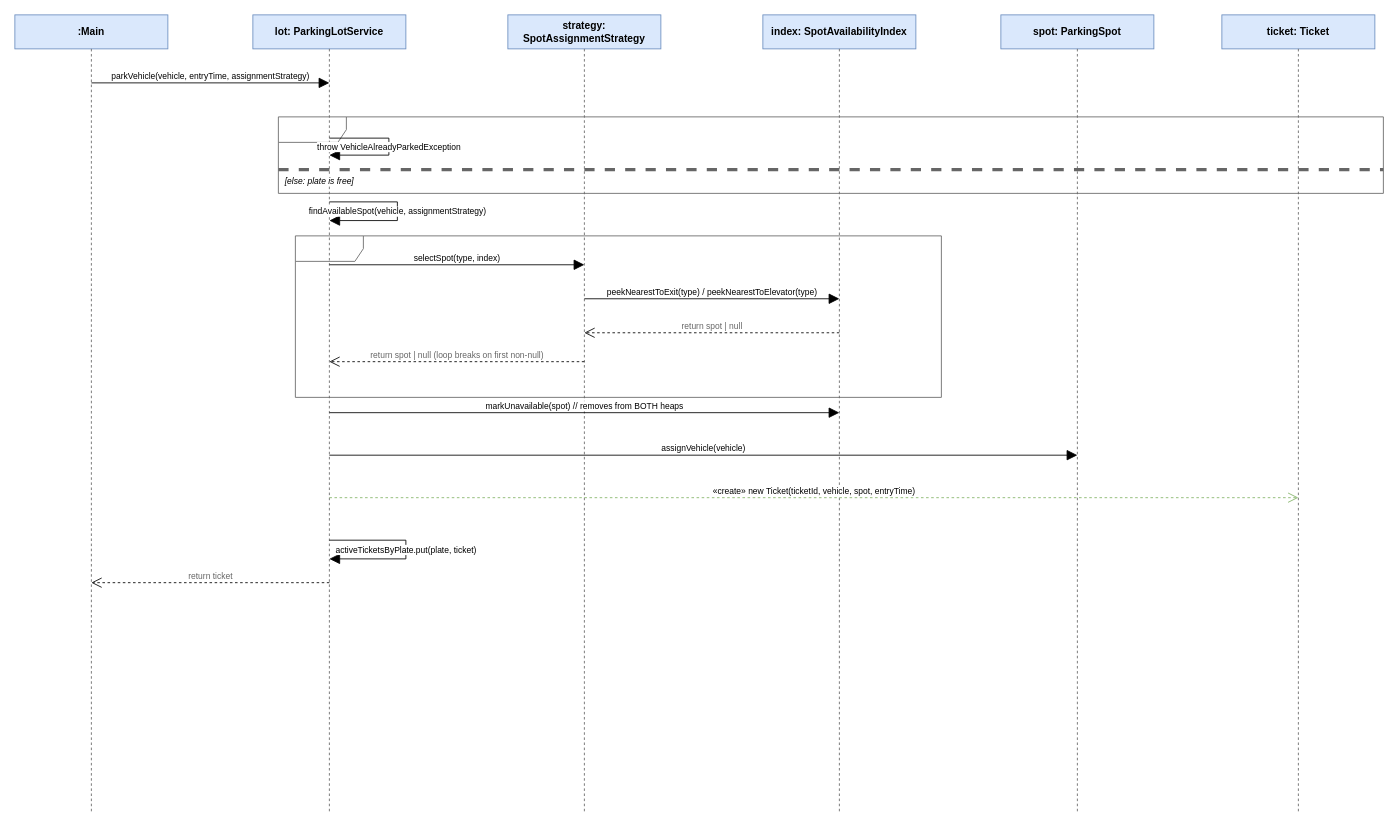
Image size: 1400x830. Some labels were removed from this diagram. The shapes that lost their labels are listed below. From the top down, each one's box as (x1, y1, x2, y2) in pixels, then its label:
(278, 116, 1383, 193): alt [activeTicketsByPlate has this plate]
(295, 235, 941, 397): loop [for each compatible SpotType, best-fit (smallest) first]
